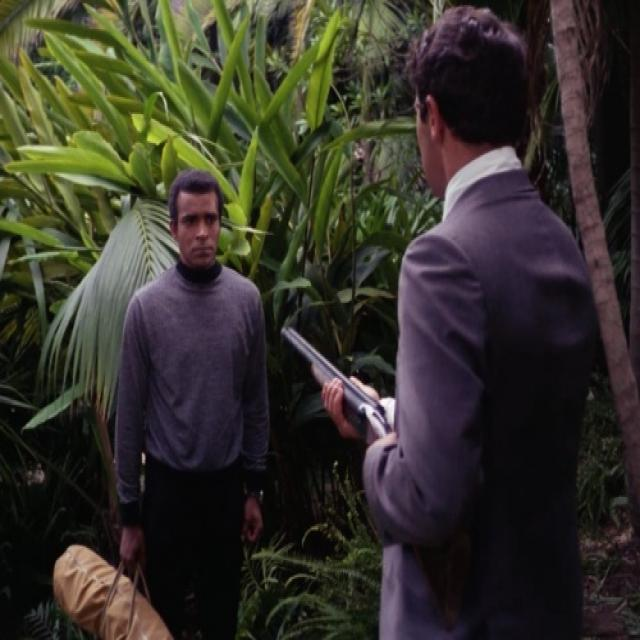rifle: (276, 318, 389, 437)
